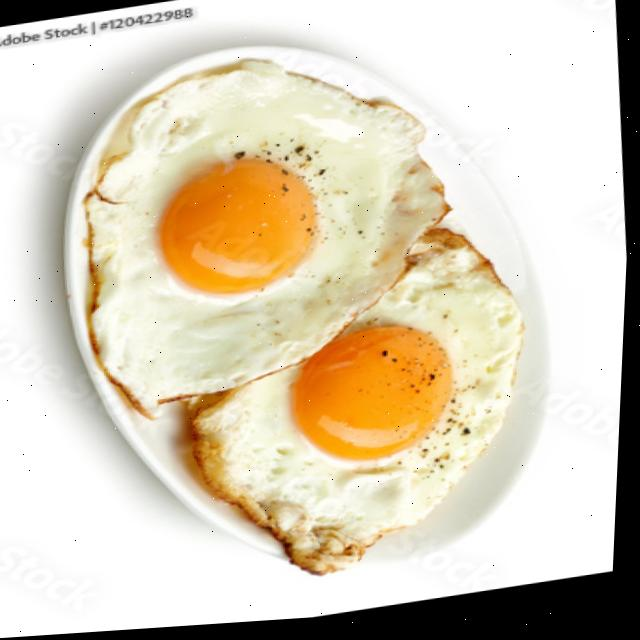Egg: (86, 65, 450, 419), (194, 235, 524, 580)
